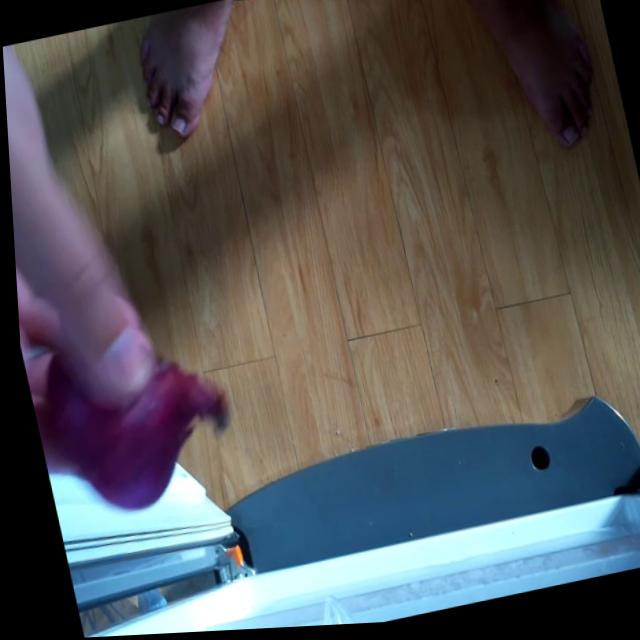onion: (29, 317, 237, 519)
